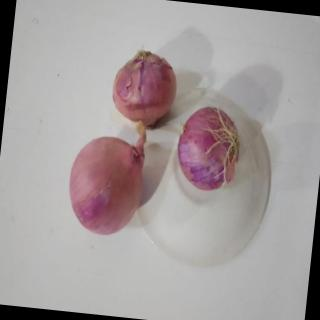Bawang Merah: (63, 114, 154, 241), (172, 100, 250, 196), (107, 45, 184, 130)
